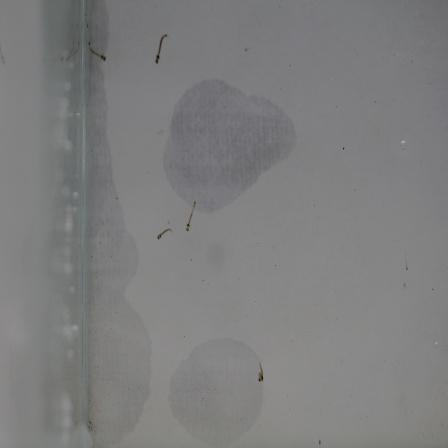Jentik-Nyamuk: (152, 28, 172, 68), (182, 197, 201, 235), (84, 38, 109, 65), (154, 222, 174, 244), (253, 360, 268, 385)
